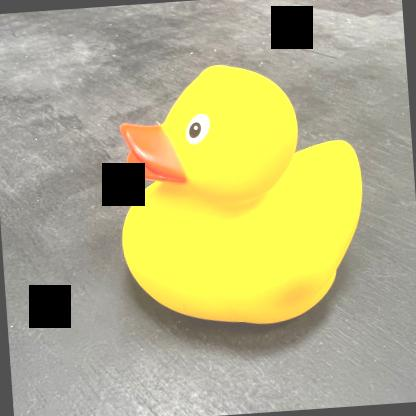duck: (108, 52, 377, 348)
